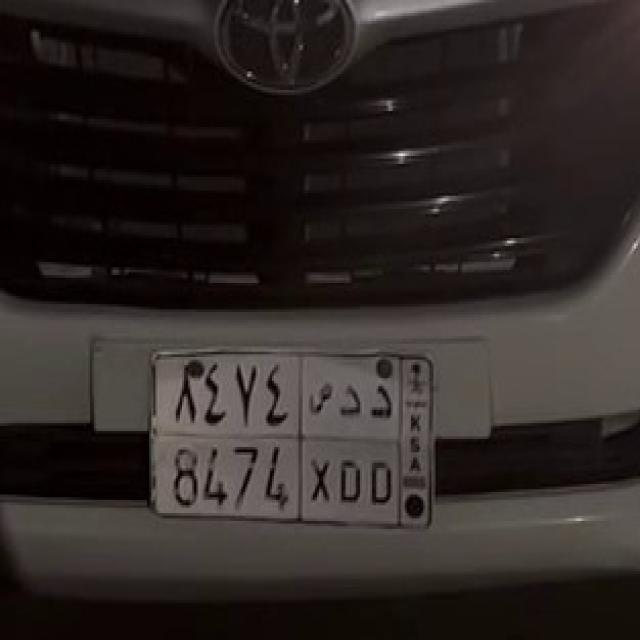Car-plate: (141, 316, 464, 548)
